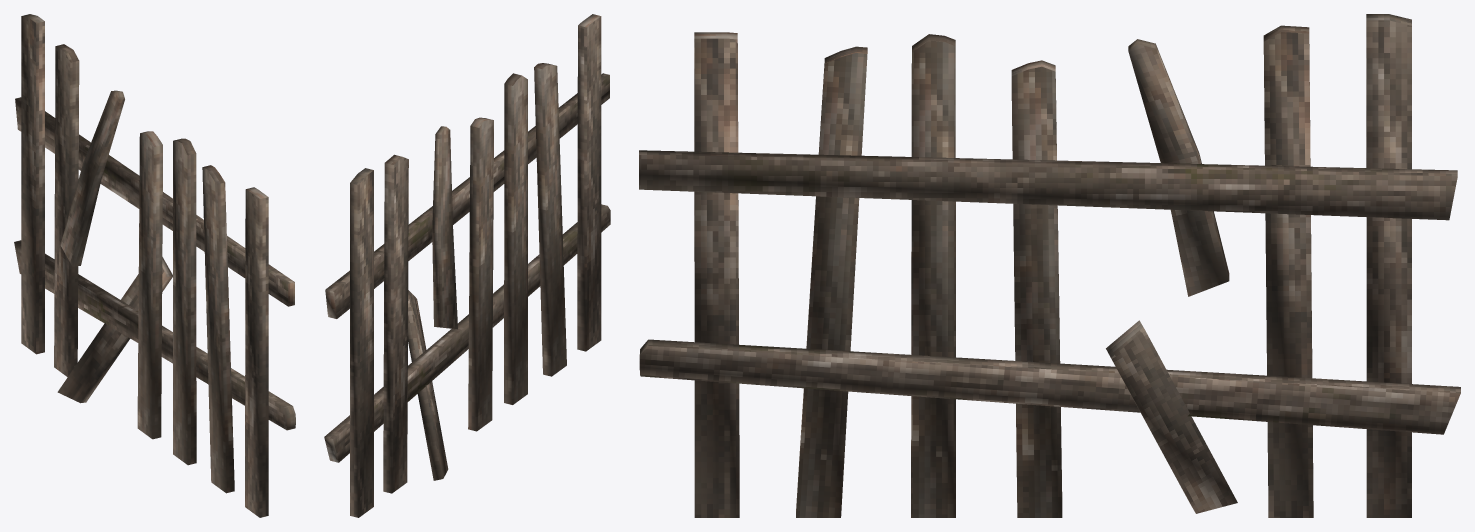
Rendered from big_fence.fbx.
3 views of the same model, side by side, from view 1: azimuth 30°, elevation 25°; view 2: azimuth 150°, elevation 25°; view 3: azimuth 270°, elevation 25° (orthographic). The views are drawn at different scales.
Visible parts, largest first — view 1: big_fence; view 2: big_fence; view 3: big_fence.
Part boxes in pixels (x1,y1,x2,y2): big_fence: [14, 14, 295, 517]; big_fence: [324, 14, 610, 517]; big_fence: [639, 14, 1460, 517].
Size of the model in its own units: 66.59 by 416 by 282.
